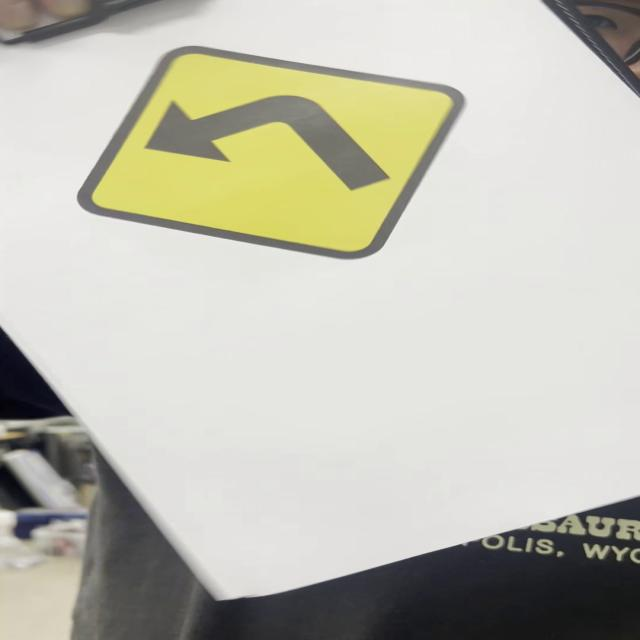left: (76, 48, 466, 260)
